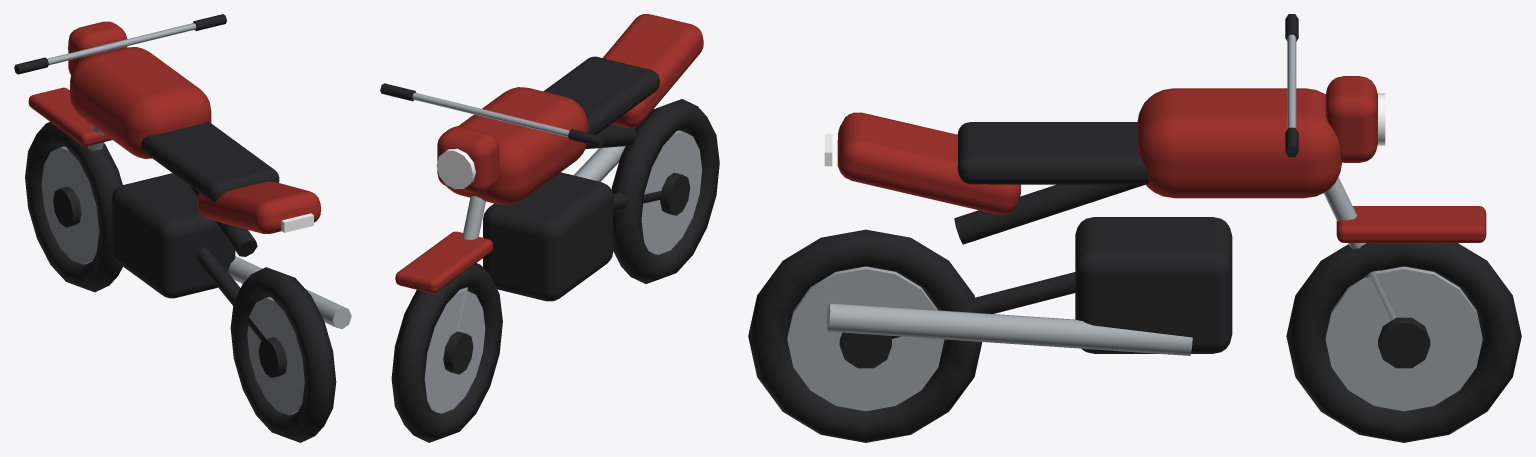
File: MOTORCYCLE.glb
The picture shows the model from 3 angles, left to right: view 1: azimuth 30°, elevation 25°; view 2: azimuth 150°, elevation 25°; view 3: azimuth 270°, elevation 25°; orthographic projection. The views are drawn at different scales.
Visible parts, largest first — view 1: tread_0, carPaint_2, steel_1, lamps_3; view 2: tread_0, carPaint_2, steel_1, lamps_3; view 3: tread_0, steel_1, carPaint_2.
Part boxes in pixels (bbox=[...]): tread_0: bbox=[14, 14, 336, 442]; carPaint_2: bbox=[28, 21, 320, 233]; steel_1: bbox=[41, 23, 351, 414]; lamps_3: bbox=[67, 46, 313, 232]; tread_0: bbox=[380, 56, 719, 442]; carPaint_2: bbox=[395, 14, 703, 293]; steel_1: bbox=[412, 92, 702, 413]; lamps_3: bbox=[436, 148, 475, 189]; tread_0: bbox=[748, 14, 1521, 442]; steel_1: bbox=[787, 34, 1482, 411]; carPaint_2: bbox=[837, 76, 1486, 242].
Size of the model in its own units: 0.84 by 1.07 by 2.07.
